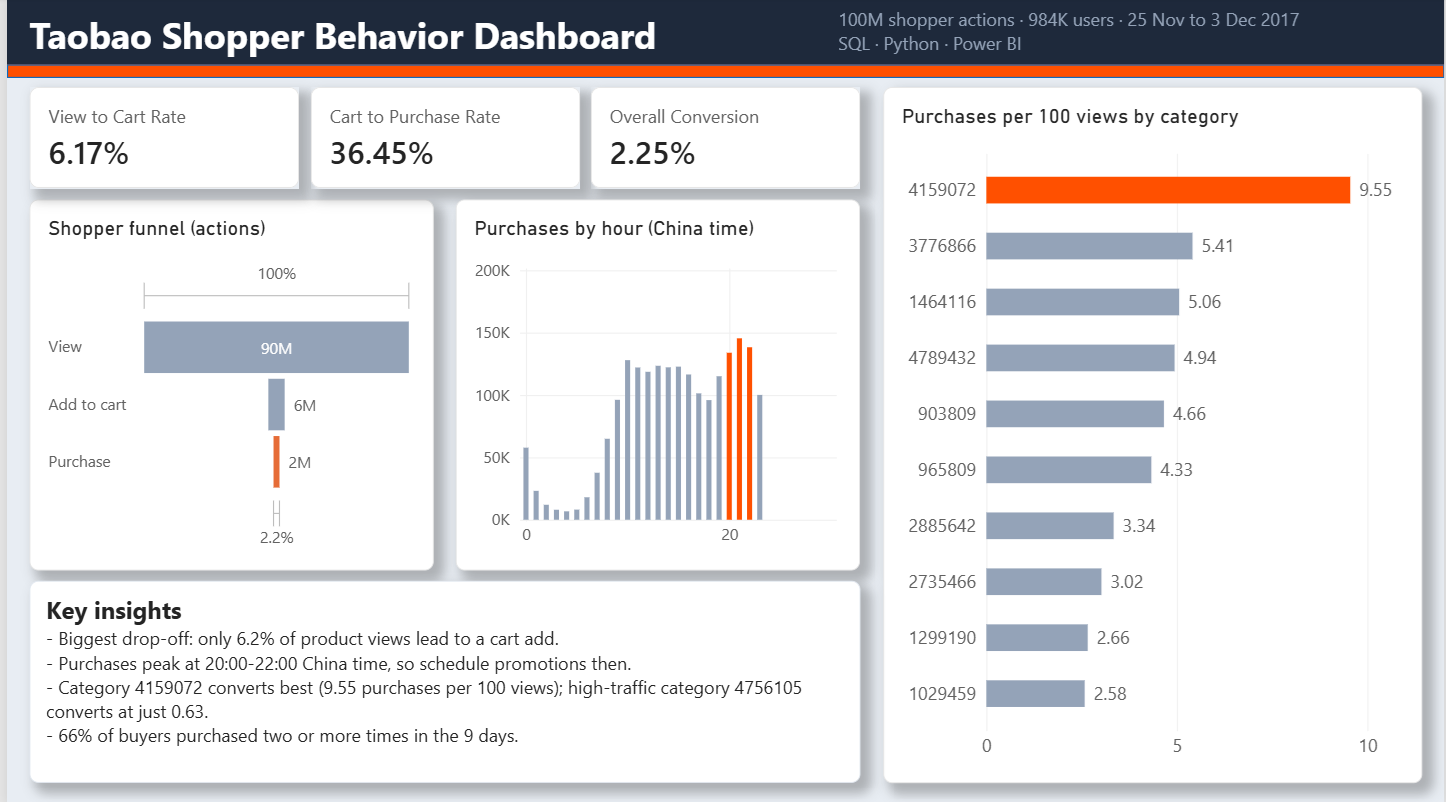

Layout of this report page (visuals, bound fields, positions):
{"tool":"powerbi","page":{"name":"Page 1","canvas":[1280,720],"ordinal":0},"visuals":[{"type":"shape","box":[0,0,1280,70],"z":0},{"type":"funnel","title":"Shopper funnel (actions)","fields":{"Category":["pbi_funnel.stage"],"Y":["Sum(pbi_funnel.actions)"]},"box":[20,180,360,330],"z":1000},{"type":"cardVisual","fields":{"Data":["pbi_funnel.View to Cart Rate"]},"box":[20,80,240,90],"z":2000},{"type":"cardVisual","fields":{"Data":["pbi_funnel.Cart to Purchase Rate"]},"box":[270,80,240,90],"z":3000},{"type":"cardVisual","fields":{"Data":["pbi_funnel.Overall Conversion"]},"box":[520,80,240,90],"z":4000},{"type":"clusteredColumnChart","title":"Purchases by hour (China time)","fields":{"Category":["pbi_hours.hour"],"Y":["Sum(pbi_hours.purchases)"]},"box":[400,180,360,330],"z":5000},{"type":"clusteredBarChart","title":"Purchases per 100 views by category","fields":{"Category":["pbi_categories.category_id"],"Y":["Sum(pbi_categories.purchases_per_100_views)"]},"box":[780,80,480,620],"z":6000},{"type":"textbox","box":[20,12,651,55],"z":7000},{"type":"textbox","box":[20,520,740,180],"z":8000},{"type":"shape","box":[0,60,1280,12],"z":8001},{"type":"textbox","box":[740,8,520,46],"z":8002}]}

Visuals, with their boxes in screenshot pixels (x1, y1, x2, y2), scaled from the page's 1280x720 canvas onto the 1446x802 screenshot:
shape: select_region(0, 0, 1445, 78)
"Shopper funnel (actions)" funnel: select_region(23, 200, 429, 568)
cardVisual - pbi_funnel.View to Cart Rate: select_region(23, 89, 294, 189)
cardVisual - pbi_funnel.Cart to Purchase Rate: select_region(305, 89, 576, 189)
cardVisual - pbi_funnel.Overall Conversion: select_region(587, 89, 859, 189)
"Purchases by hour (China time)" clusteredColumnChart: select_region(452, 200, 859, 568)
"Purchases per 100 views by category" clusteredBarChart: select_region(881, 89, 1423, 780)
textbox: select_region(23, 13, 758, 75)
textbox: select_region(23, 579, 859, 780)
shape: select_region(0, 67, 1445, 80)
textbox: select_region(836, 9, 1423, 60)
